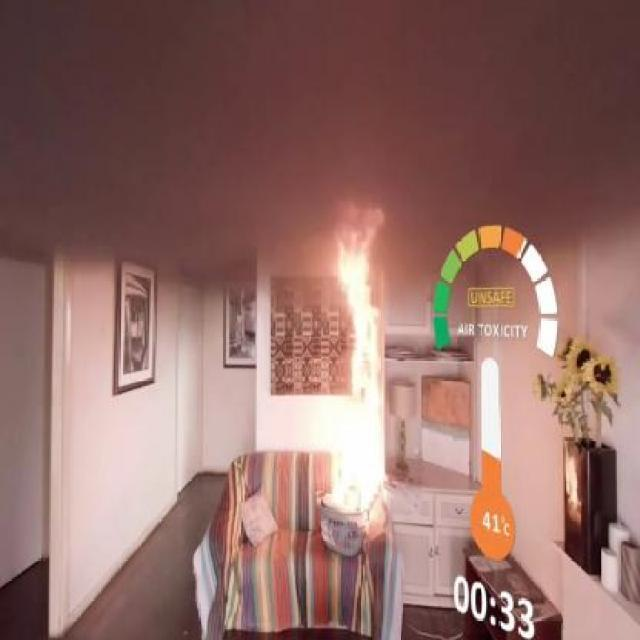fire: (307, 233, 398, 550)
smoke: (74, 18, 540, 199)
